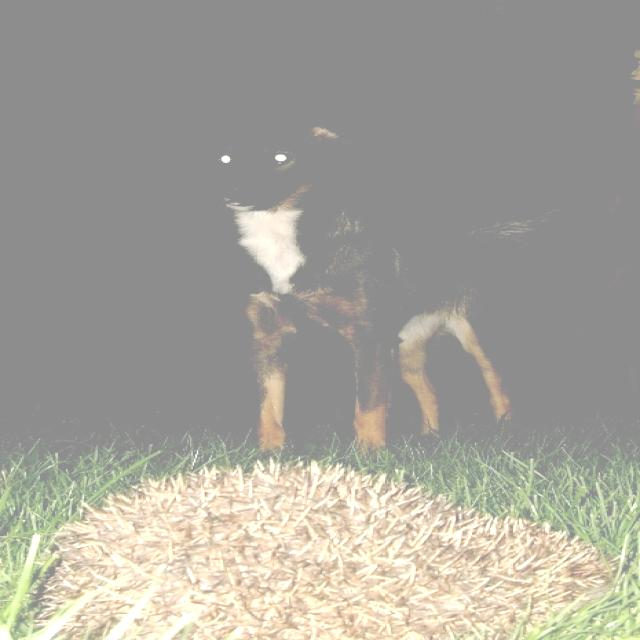Dog: (92, 70, 622, 498)
